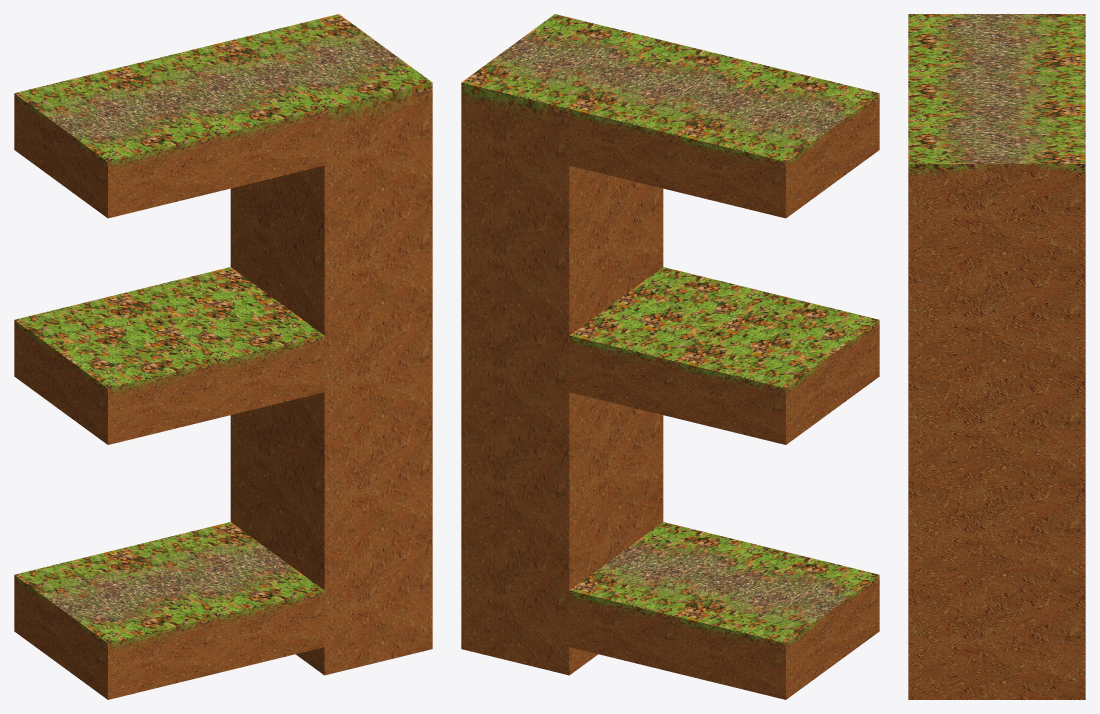
The model's file is Stair-5.fbx.
3 views of the same model, side by side, from view 1: azimuth 30°, elevation 25°; view 2: azimuth 150°, elevation 25°; view 3: azimuth 270°, elevation 25° (orthographic). The views are drawn at different scales.
Parts seen in each view (by area): view 1: Unit_Block13, Unit_Block6, Unit_Block8, Unit_Block4, Unit_Block17, Unit_Block19, Unit_Block16, Unit_Block1, Unit_Block18, Unit_Block3, Unit_Block7; view 2: Unit_Block13, Unit_Block6, Unit_Block8, Unit_Block4, Unit_Block17, Unit_Block19, Unit_Block16, Unit_Block1, Unit_Block18, Unit_Block3, Unit_Block7; view 3: Unit_Block13, Unit_Block3, Unit_Block6, Unit_Block7, Unit_Block8, Unit_Block18, Unit_Block19.
Boxes of the visible parts, bbox=[...] form: Unit_Block13: bbox=[231, 14, 432, 222]; Unit_Block6: bbox=[230, 406, 432, 561]; Unit_Block8: bbox=[230, 180, 432, 335]; Unit_Block4: bbox=[14, 548, 216, 699]; Unit_Block17: bbox=[14, 293, 216, 444]; Unit_Block19: bbox=[14, 67, 216, 218]; Unit_Block16: bbox=[123, 267, 324, 418]; Unit_Block1: bbox=[123, 522, 324, 673]; Unit_Block18: bbox=[123, 40, 324, 191]; Unit_Block3: bbox=[230, 494, 432, 675]; Unit_Block7: bbox=[267, 309, 432, 448]; Unit_Block13: bbox=[461, 14, 662, 222]; Unit_Block6: bbox=[461, 406, 663, 561]; Unit_Block8: bbox=[461, 180, 663, 335]; Unit_Block4: bbox=[677, 548, 879, 699]; Unit_Block17: bbox=[677, 293, 879, 444]; Unit_Block19: bbox=[677, 67, 879, 218]; Unit_Block16: bbox=[569, 267, 770, 418]; Unit_Block1: bbox=[569, 522, 770, 673]; Unit_Block18: bbox=[569, 40, 770, 191]; Unit_Block3: bbox=[461, 494, 663, 675]; Unit_Block7: bbox=[461, 309, 626, 448]; Unit_Block13: bbox=[908, 114, 1085, 271]; Unit_Block3: bbox=[908, 592, 1085, 699]; Unit_Block6: bbox=[908, 485, 1085, 592]; Unit_Block7: bbox=[908, 378, 1085, 485]; Unit_Block8: bbox=[908, 271, 1085, 378]; Unit_Block18: bbox=[908, 64, 1085, 113]; Unit_Block19: bbox=[908, 14, 1085, 63].
Bounding box in the file's own units: 6 × 10 × 3.
